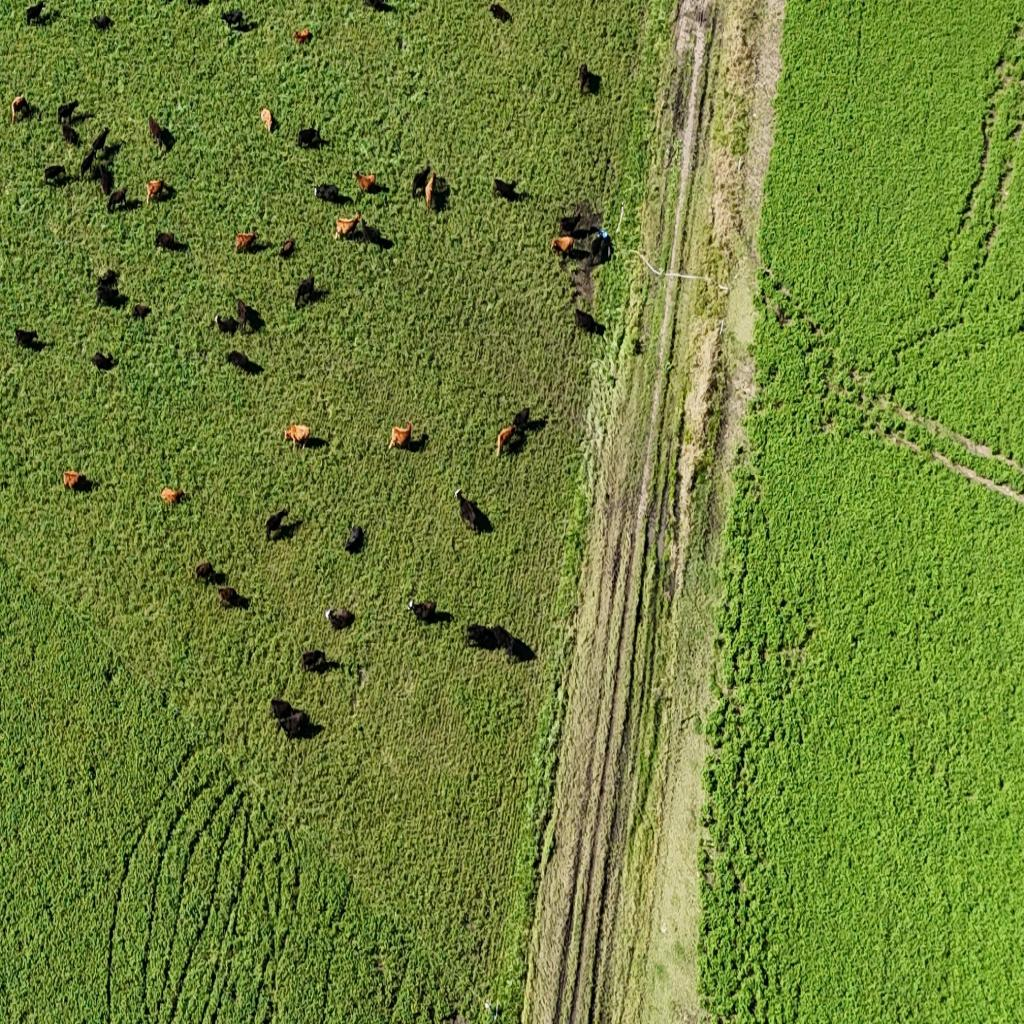cow: (453, 486, 487, 534), (569, 268, 596, 310), (82, 129, 108, 171), (503, 633, 535, 663), (574, 306, 605, 336), (466, 624, 498, 652), (571, 253, 605, 279), (279, 711, 309, 740), (496, 424, 521, 458), (361, 220, 389, 249), (225, 350, 257, 375), (558, 243, 594, 265), (571, 213, 605, 236), (324, 605, 354, 631), (407, 598, 437, 623), (590, 230, 612, 264), (284, 424, 310, 452), (388, 422, 412, 452), (270, 698, 296, 725), (334, 215, 362, 240), (62, 468, 91, 492), (295, 275, 315, 309), (313, 182, 343, 204), (218, 587, 247, 609), (551, 233, 576, 258), (97, 286, 123, 310), (213, 312, 239, 336), (106, 185, 127, 214), (493, 178, 518, 202), (14, 326, 39, 350), (494, 624, 514, 654), (265, 509, 287, 536), (412, 166, 430, 199), (97, 164, 114, 198), (159, 486, 185, 508), (510, 406, 530, 434), (297, 126, 321, 149), (558, 213, 582, 236), (10, 94, 28, 124), (301, 650, 325, 672), (345, 525, 363, 554), (146, 178, 166, 204), (96, 269, 119, 291), (354, 170, 376, 193), (91, 351, 115, 372), (220, 8, 244, 29), (584, 64, 600, 95), (235, 230, 257, 252), (44, 165, 67, 186), (155, 231, 179, 251), (24, 2, 44, 26), (259, 106, 275, 136), (423, 173, 435, 213), (61, 122, 79, 148), (57, 100, 78, 122), (194, 561, 214, 584), (148, 116, 163, 146), (489, 2, 511, 22), (236, 299, 248, 334), (91, 14, 112, 32), (578, 63, 590, 94), (362, 0, 390, 13), (441, 1006, 459, 1024), (292, 28, 312, 44), (132, 303, 150, 320), (207, 570, 226, 586), (280, 237, 294, 258), (774, 305, 787, 327), (184, 0, 208, 10)
